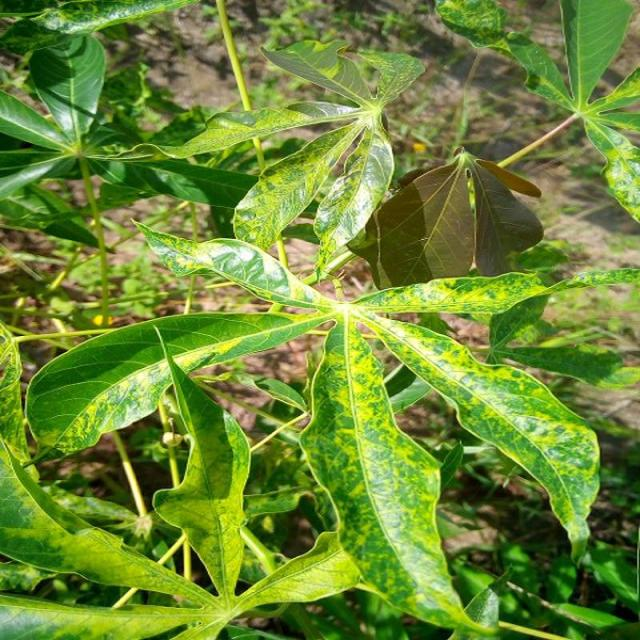cassava leaf: (351, 310, 601, 566), (297, 311, 493, 636), (346, 146, 544, 291), (150, 348, 252, 602)
